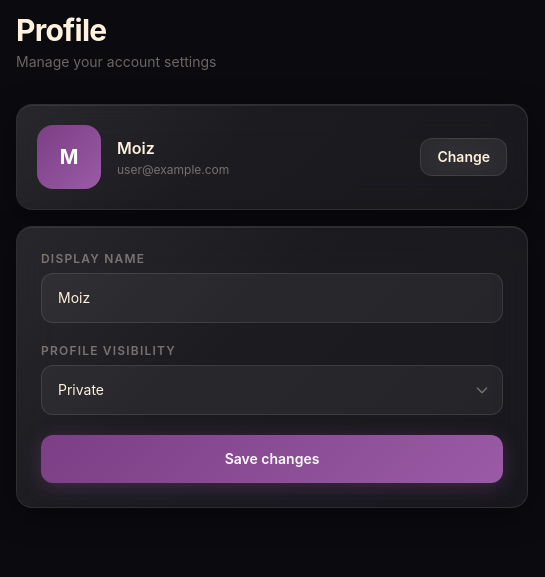
Scenario: ProfilePage › shows Saved confirmation after successful save
The width and height of the screenshot is (545, 577).
Check: the field showing "Moiz" is shown, box [41,273,503,323]
Click the button "Save changes": (272, 459) [41,435,503,483]
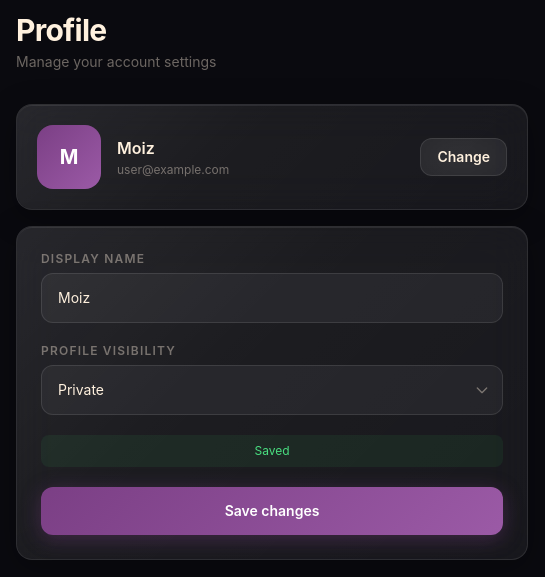
Check: the message reads "Saved", box [254,443,290,458]
